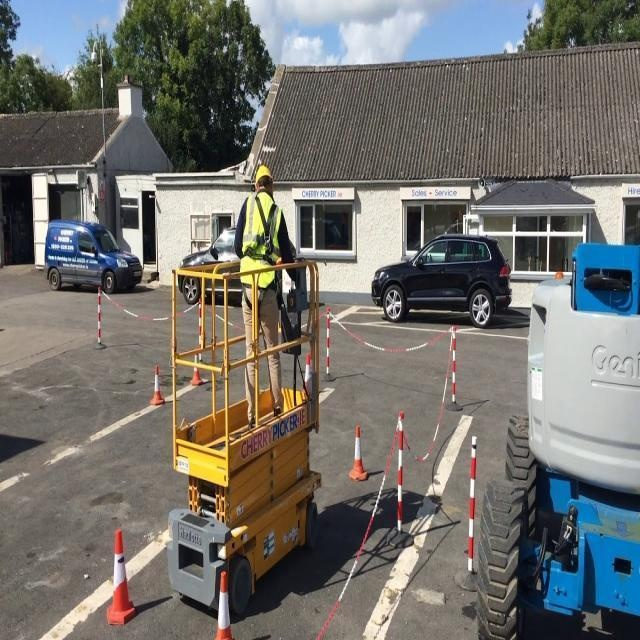Arnes_seguridad: (238, 191, 284, 285)
